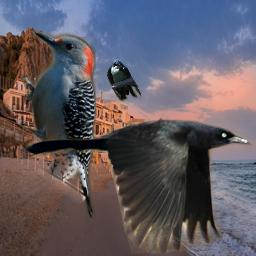Crow: (25, 117, 254, 255)
Swallow: (106, 59, 143, 103)
Woodpecker: (19, 27, 96, 219)
